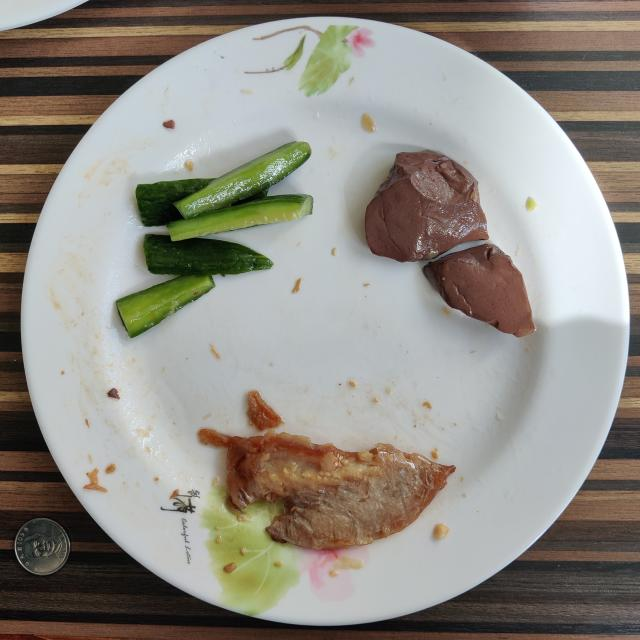Kabayaki sea bream fillet: (199, 429, 455, 549)
coin: (15, 519, 70, 575)
cucumber: (116, 141, 312, 338)
pig blood curd: (365, 150, 489, 262), (422, 244, 535, 338)
